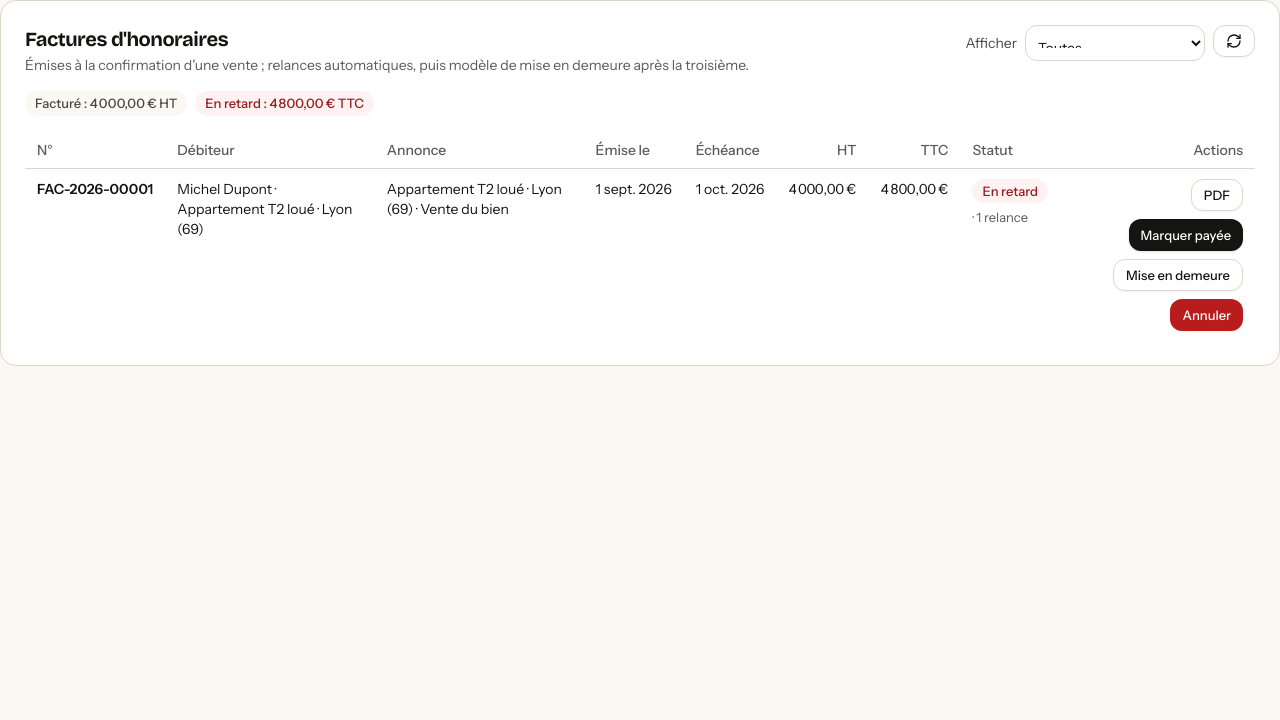
Test: AdminInvoices › liste, totaux, marquer payée, annuler avec motif
Later steps or results of the test are not shown.
Check: the button with test id "invoice-notice-i1" is shown, box [1113,259,1243,291]
Click the button with test id "invoice-paid-i1" at (1186, 235), box [1128,219,1243,251]
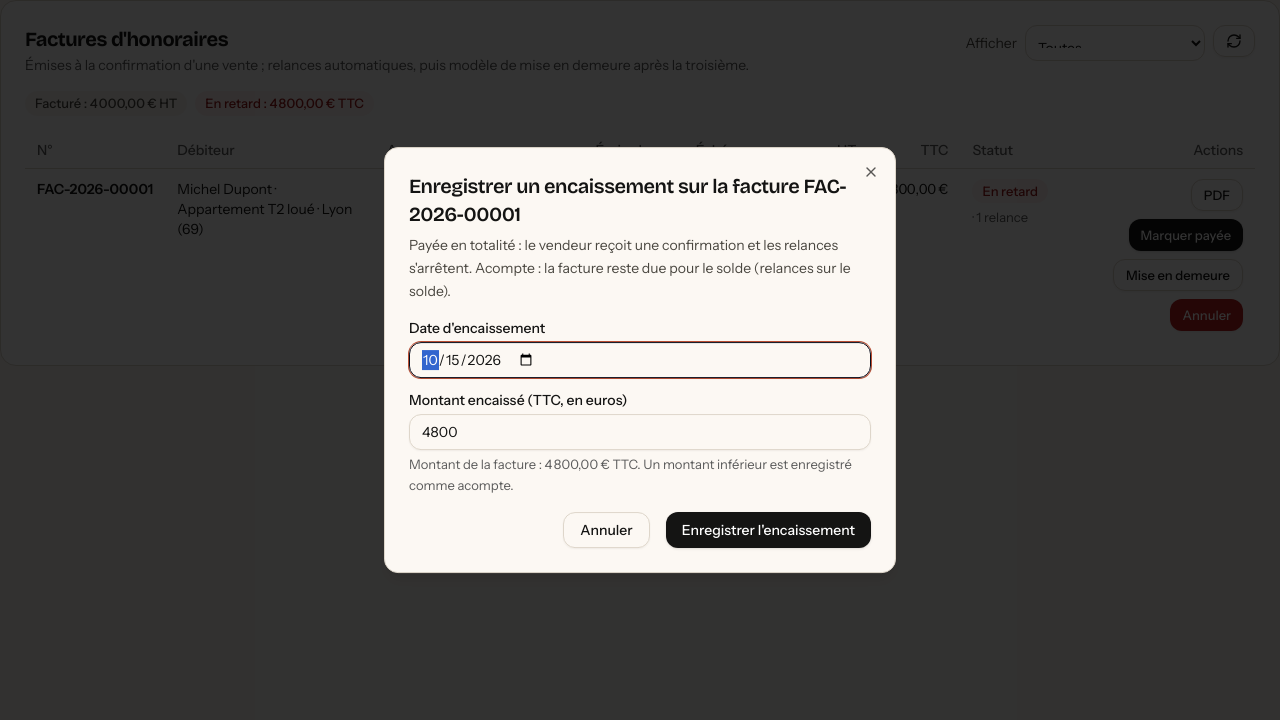
Check: the dialog with test id "paid-dialog" shows "le vendeur reçoit une confirmation", box [409,236,851,300]
Click the button with test id "paid-dialog-confirm" at (768, 530), box [666,512,871,548]
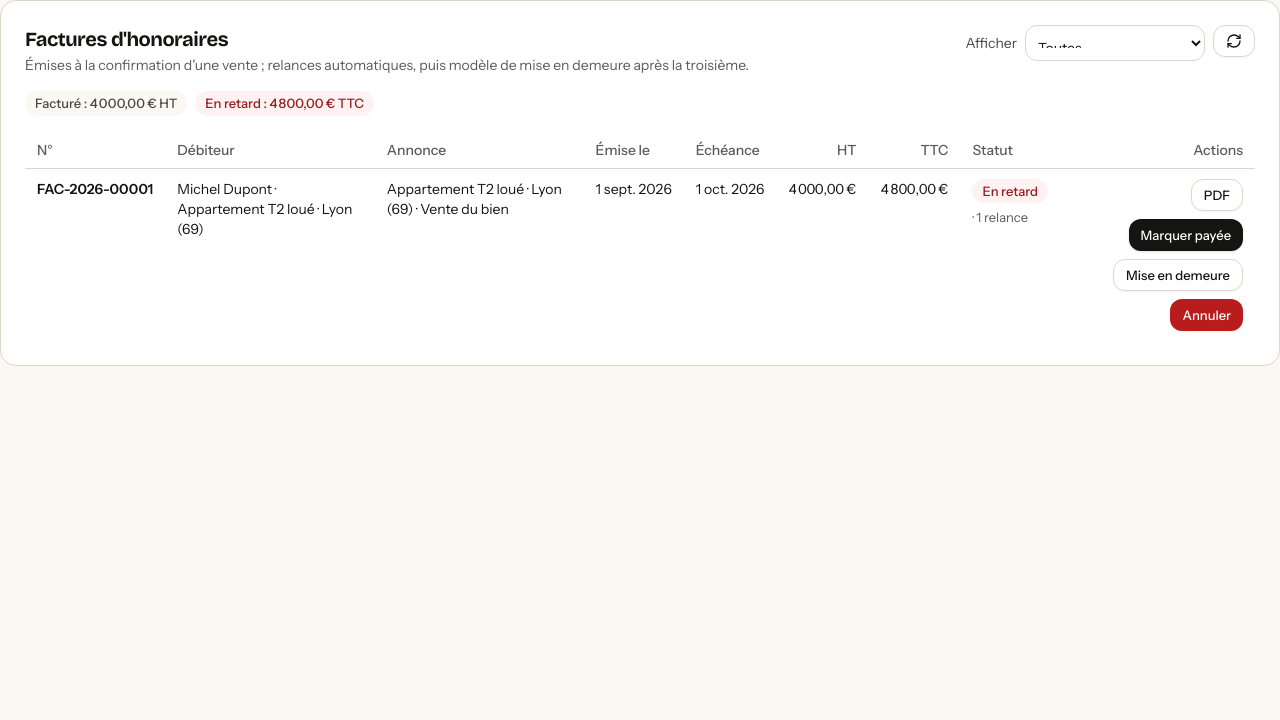
Click the button with test id "invoice-cancel-i1" at (1207, 315), box [1170,299,1243,331]
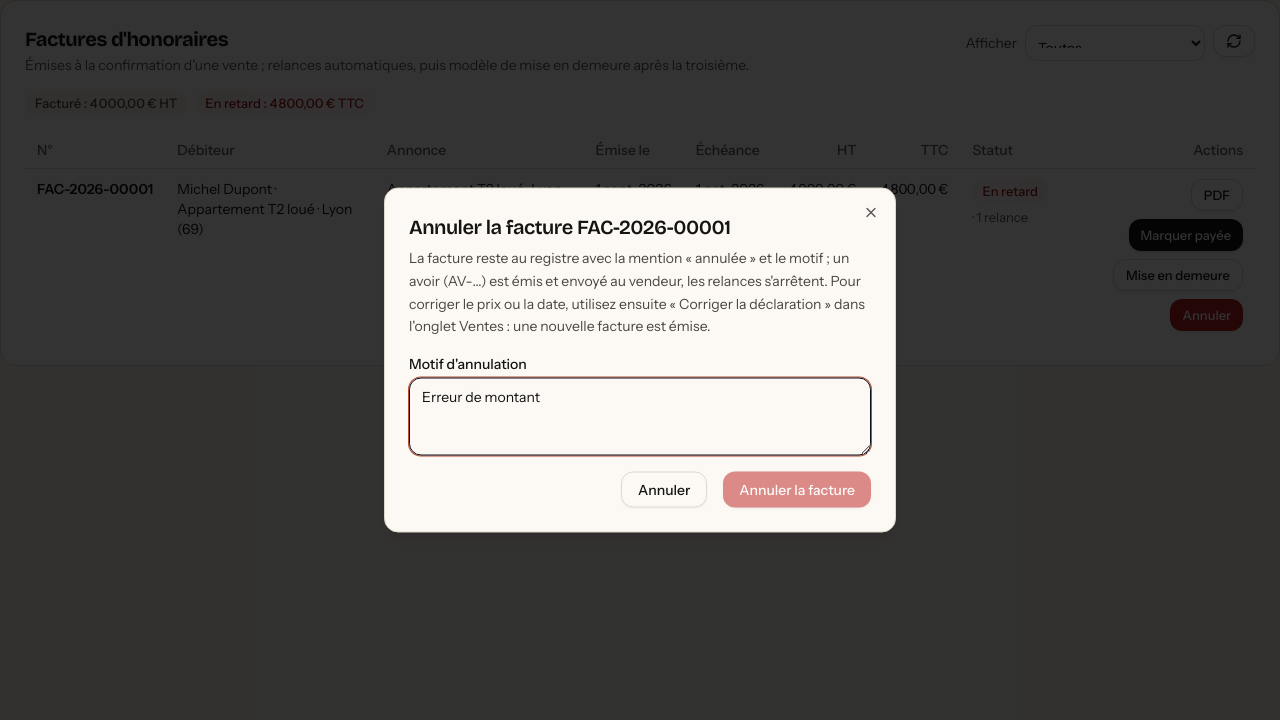
Check: the button with test id "cancel-invoice-dialog-confirm" is disabled, box [723,472,871,508]
